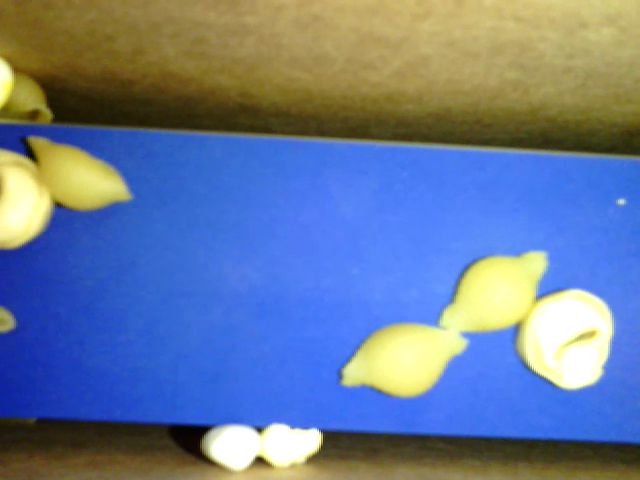shell: (340, 319, 469, 400), (438, 244, 555, 333), (26, 131, 140, 212), (1, 66, 58, 127)
tortellini: (518, 287, 611, 393), (1, 151, 56, 256)
